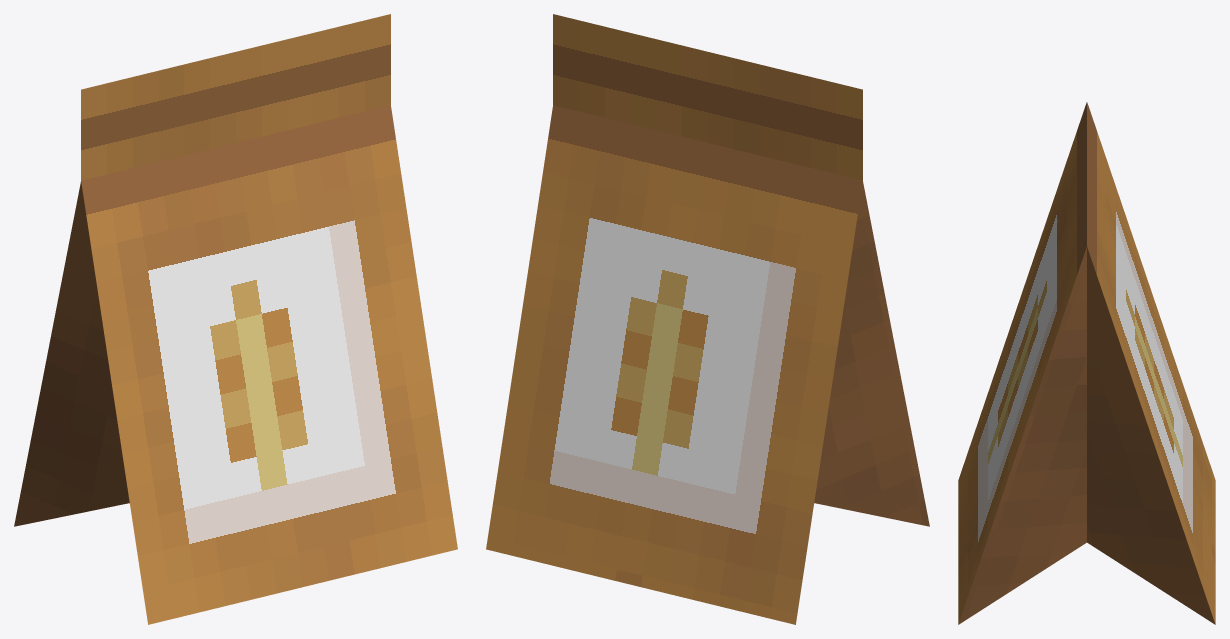
The model's file is wheat_seeds-optimized.glb.
The picture shows the model from 3 angles, left to right: view 1: azimuth 30°, elevation 25°; view 2: azimuth 150°, elevation 25°; view 3: azimuth 270°, elevation 25°; orthographic projection. The views are drawn at different scales.
Parts seen in each view (by area): view 1: cuboid; view 2: cuboid; view 3: cuboid.
Boxes of the visible parts, x1,y1,x2,y2 form: cuboid: (14,14,457,624); cuboid: (486,14,929,624); cuboid: (958,102,1215,624).
Size of the model in its own units: 0.5 by 0.75 by 0.375.
Materials: 1 (1 with a texture image).
